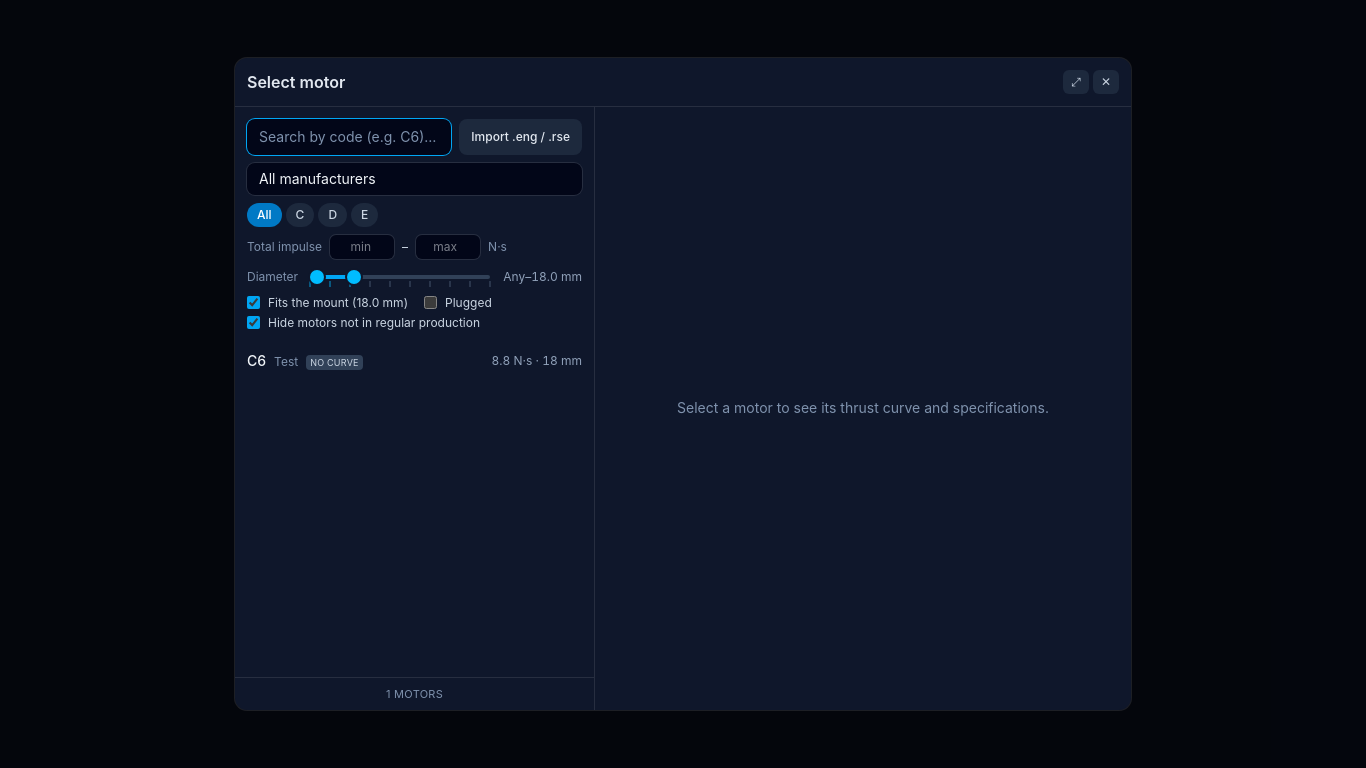
Scenario: the motor picker filters by what fits the mount › clears itself when the ceiling is dragged above what the mount takes
This screenshot has width=1366, height=768.
Set the slider named "Diameter max" to "4": [391, 277] box [310,267,490,287]
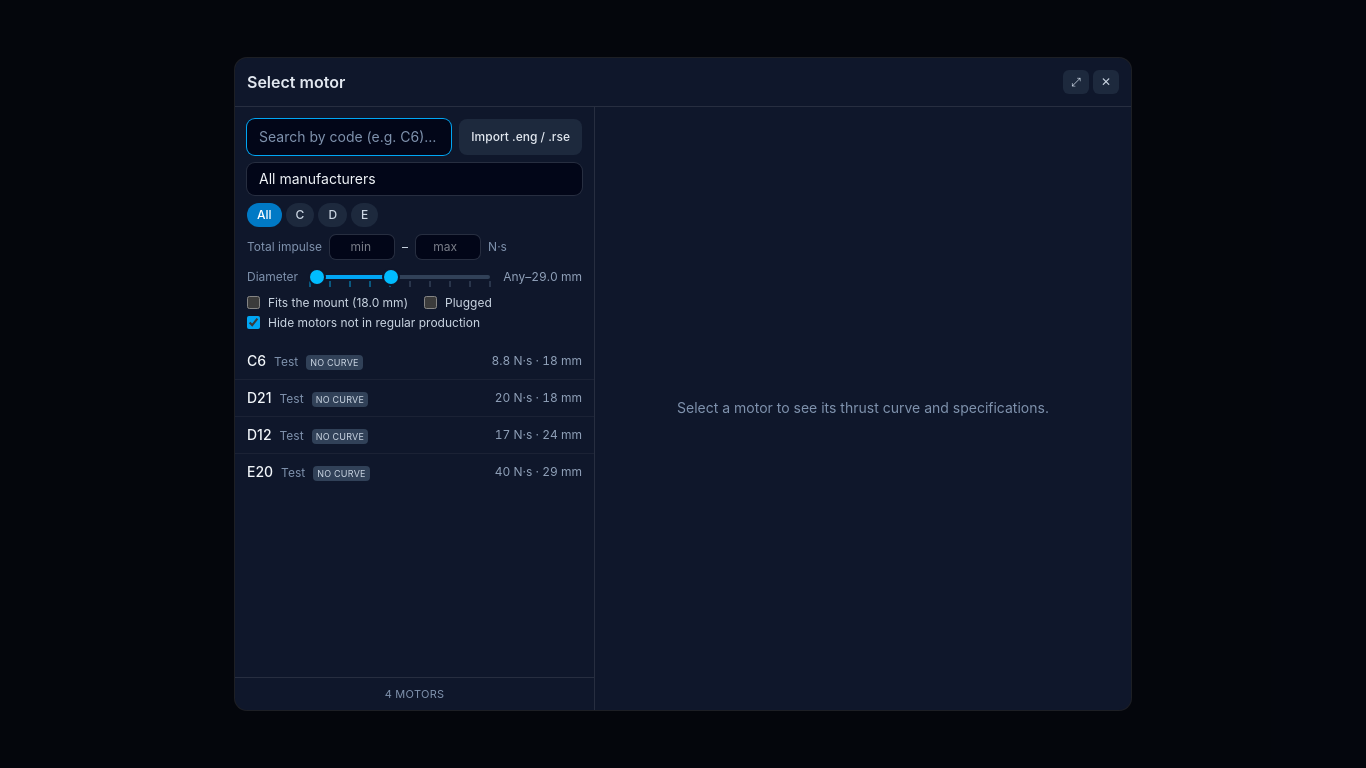
Now the checkbox labelled "Fits the mount (18.0 mm)" is not checked, box [247,296,260,309]
